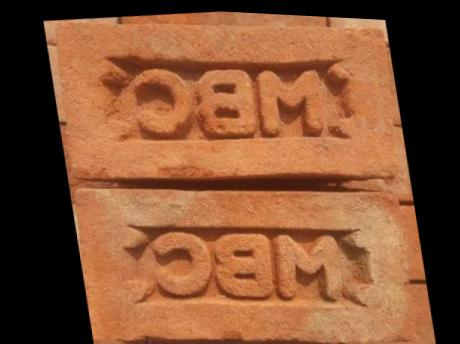brick: (42, 2, 409, 217), (66, 156, 422, 344), (116, 6, 336, 43)
